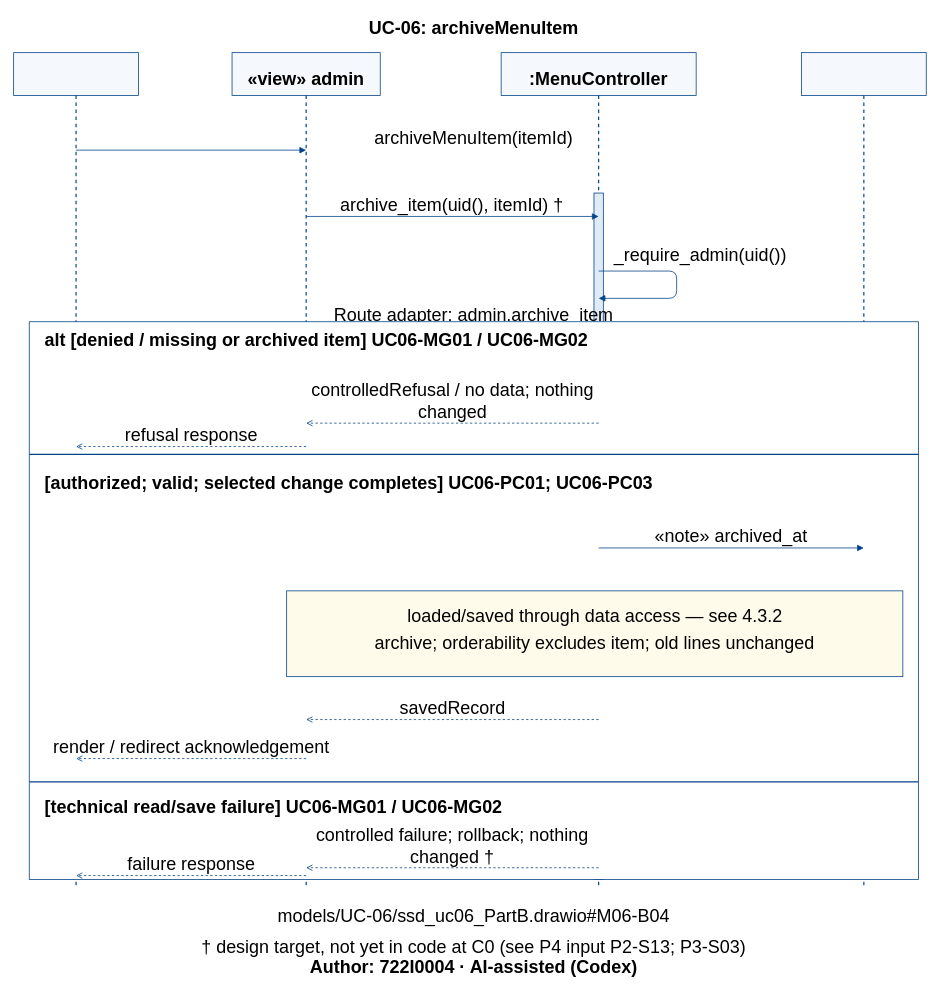
Image size: 940x991. Some labels were removed from this diagram. The shapes that lost their labels are listed below. From the top down, each one's box as (x1, y1, x2, y2) in pixels, then its label:
(13, 52, 138, 96): Admin
(801, 52, 926, 96): :MenuItem
